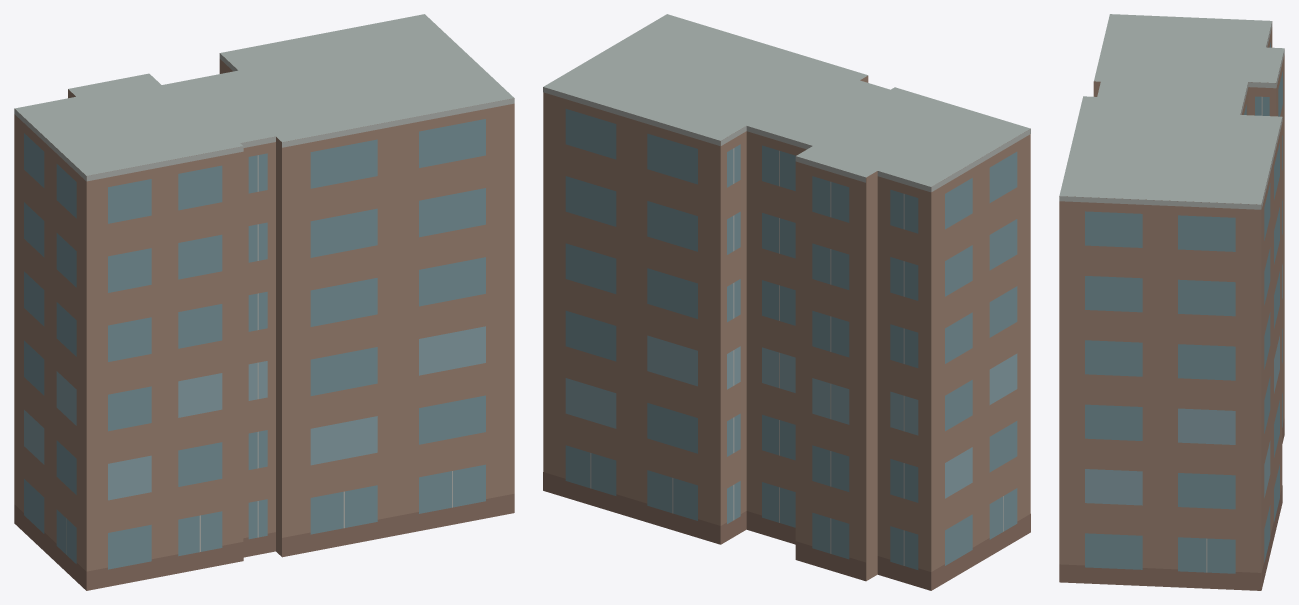
Rendered from survey-upis-32665679.glb.
The picture shows the model from 3 angles, left to right: view 1: azimuth 30°, elevation 25°; view 2: azimuth 150°, elevation 25°; view 3: azimuth 270°, elevation 25°; orthographic projection. The views are drawn at different scales.
Parts seen in each view (by area): view 1: survey-upis-32665679.tmp; view 2: survey-upis-32665679.tmp; view 3: survey-upis-32665679.tmp.
Part boxes in pixels (x1,y1,x2,y2): survey-upis-32665679.tmp: (14, 14, 514, 590); survey-upis-32665679.tmp: (543, 14, 1030, 590); survey-upis-32665679.tmp: (1059, 14, 1284, 590).
Size of the model in its own units: 19.38 by 18.3 by 9.68.
